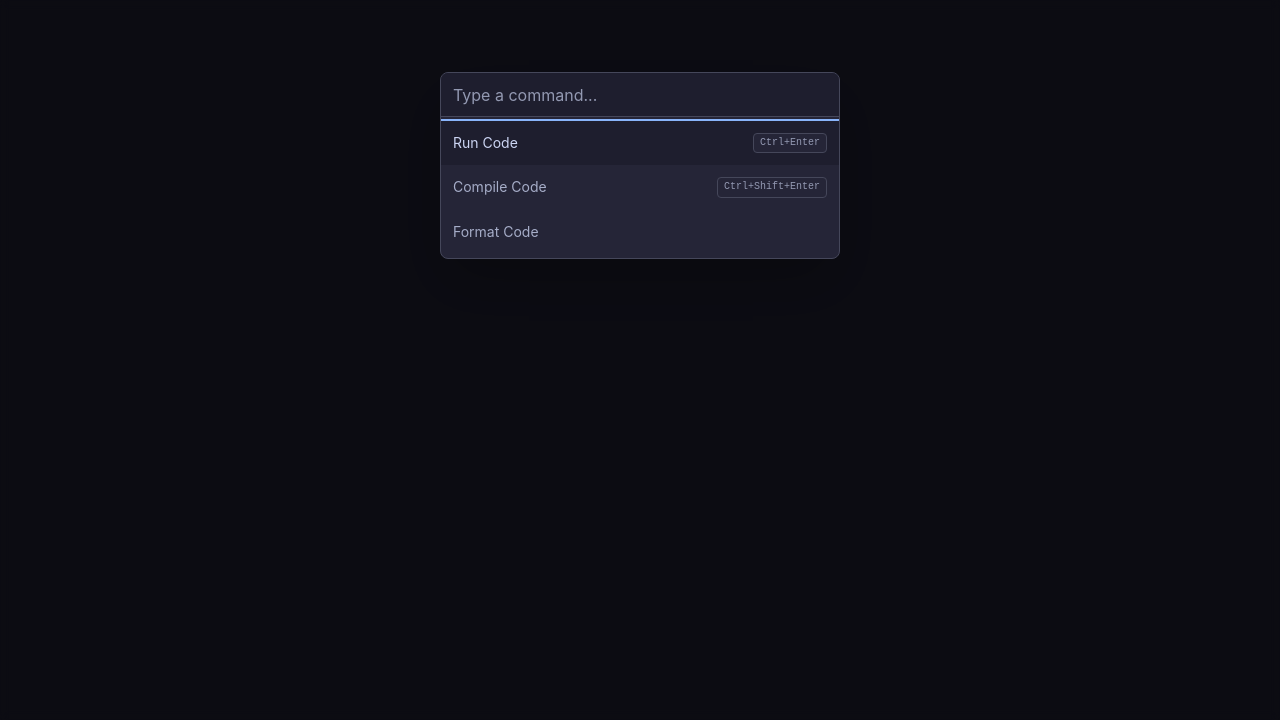
Scenario: CommandPalette › filters commands by search input
This screenshot has width=1280, height=720.
Type "run" into the dropdown named "Search commands" at (640, 95), box [441,73,839,117]
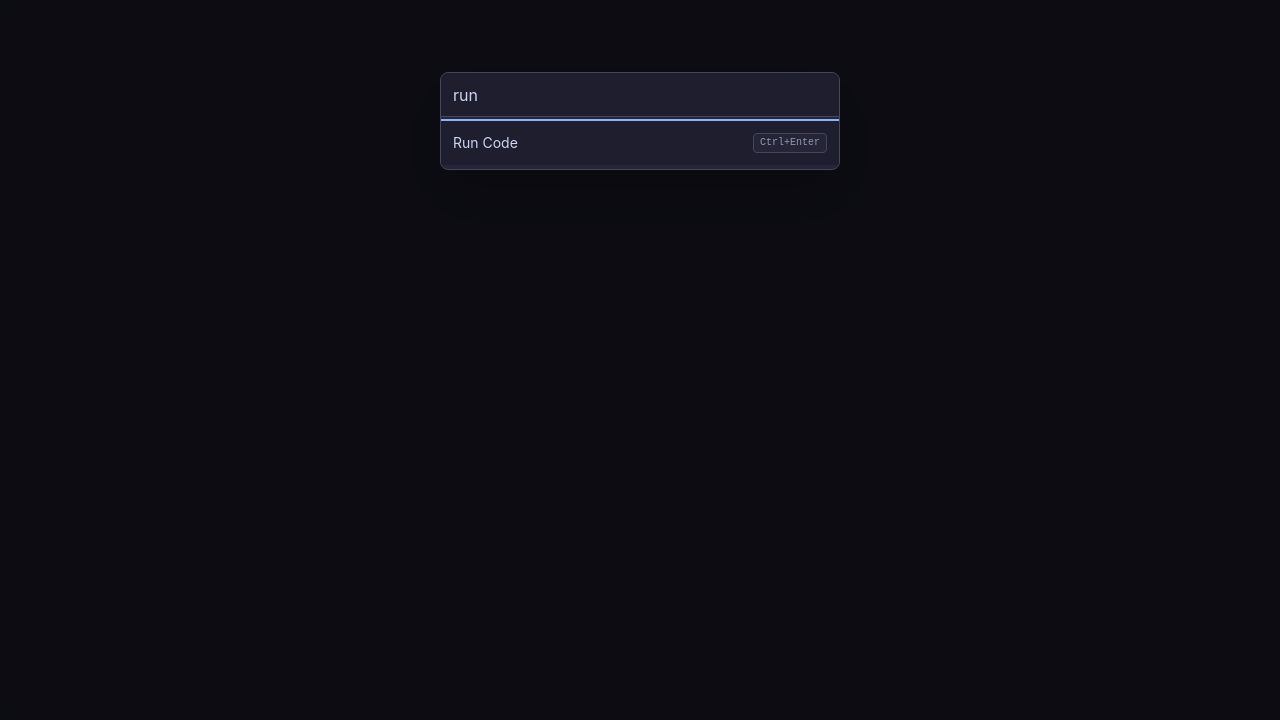
Check: the text "Run Code" is shown, box [453,133,518,153]
Check: the button "Compile Code" is gone
Check: the button "Format Code" is gone
